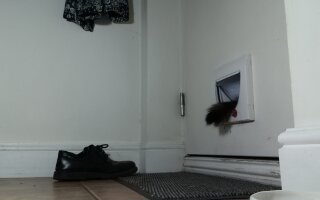clara: (203, 99, 240, 126)
